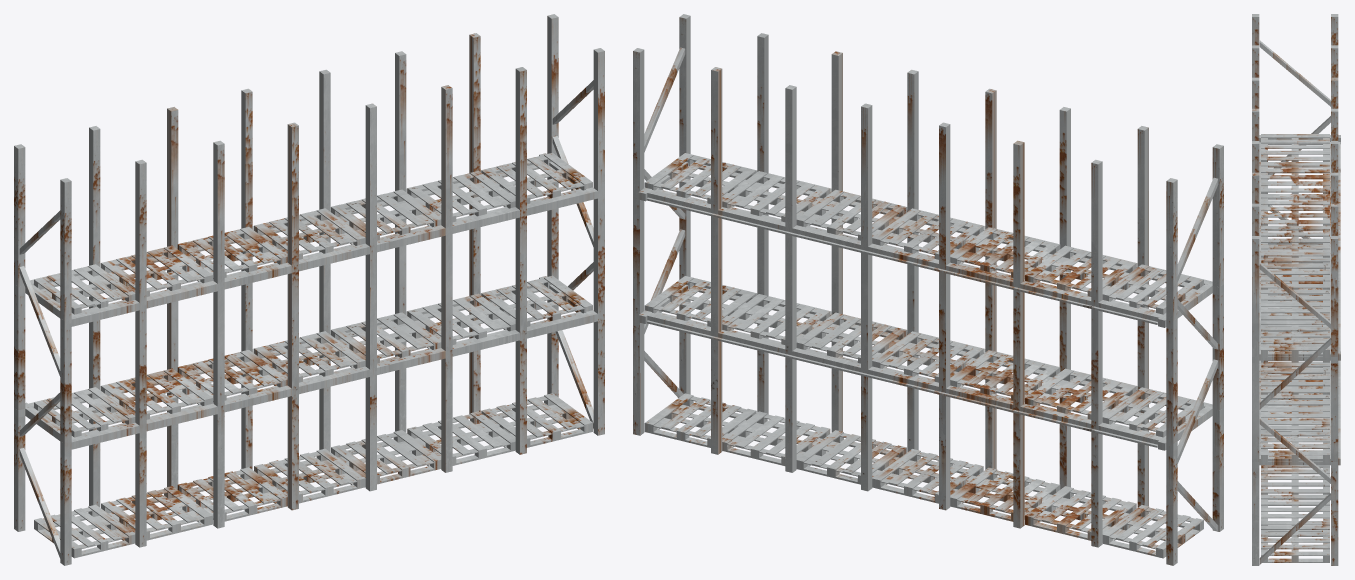
File: estantes.fbx
The picture shows the model from 3 angles, left to right: view 1: azimuth 30°, elevation 25°; view 2: azimuth 150°, elevation 25°; view 3: azimuth 270°, elevation 25°; orthographic projection. The views are drawn at different scales.
Parts seen in each view (by area): view 1: Object001; view 2: Object001; view 3: Object001.
Boxes of the visible parts, x1,y1,x2,y2 form: Object001: [14, 14, 604, 565]; Object001: [633, 14, 1223, 565]; Object001: [1252, 14, 1340, 565].
Bounding box in the file's own units: 885 × 600 × 147.
